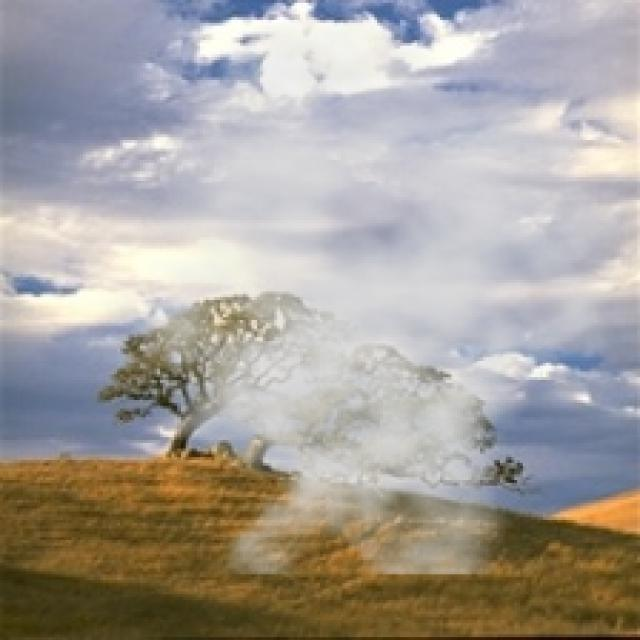smoke: (72, 12, 637, 574)
